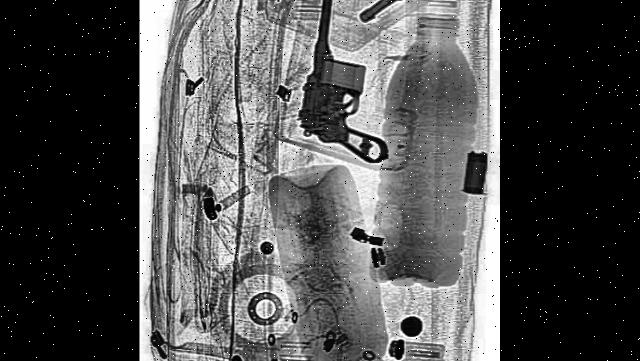Gun: (299, 0, 408, 173), (350, 0, 472, 31)
